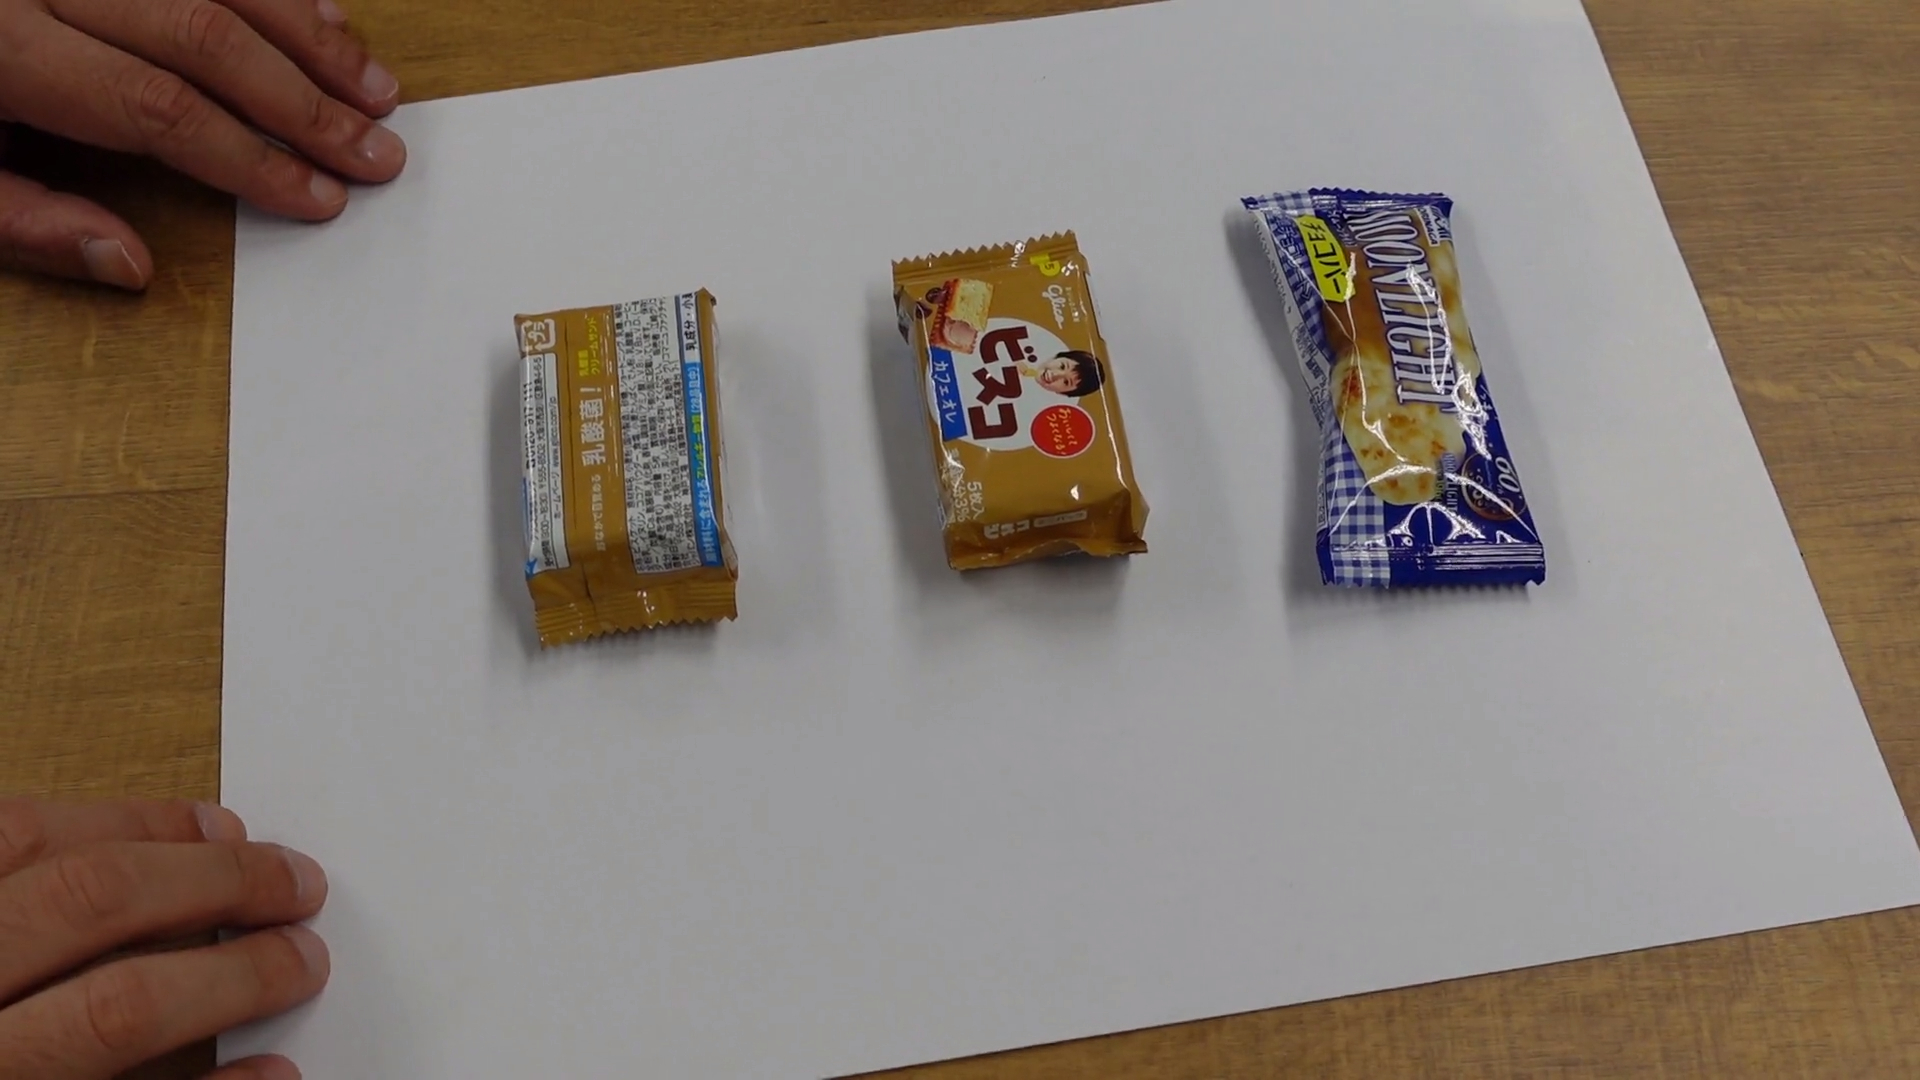BISCO_CafeAuLet: (889, 235, 1147, 570), (514, 291, 737, 640)
